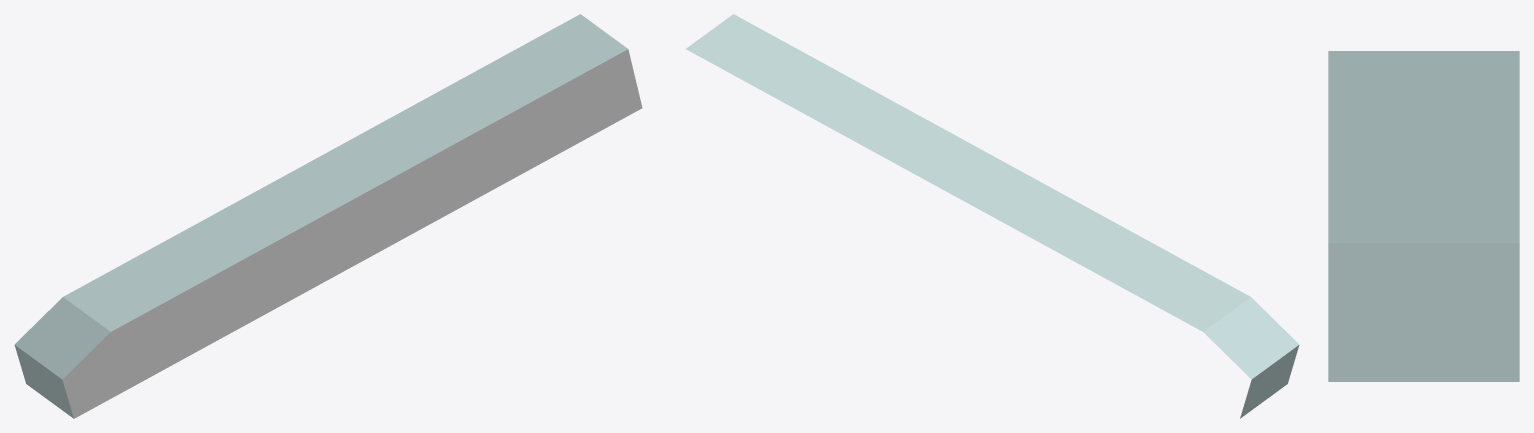
The picture shows the model from 3 angles, left to right: view 1: azimuth 30°, elevation 25°; view 2: azimuth 150°, elevation 25°; view 3: azimuth 270°, elevation 25°; orthographic projection. The views are drawn at different scales.
Parts seen in each view (by area): view 1: 0_2_2_0_2_2_2; view 2: 0_2_2_0_2_2_2; view 3: 0_2_2_0_2_2_2.
Boxes of the visible parts, x1,y1,x2,y2 form: 0_2_2_0_2_2_2: (14,14,642,418); 0_2_2_0_2_2_2: (686,14,1299,418); 0_2_2_0_2_2_2: (1328,51,1519,381).
Bounding box in the file's own units: 20.98 × 8.11 × 3.
